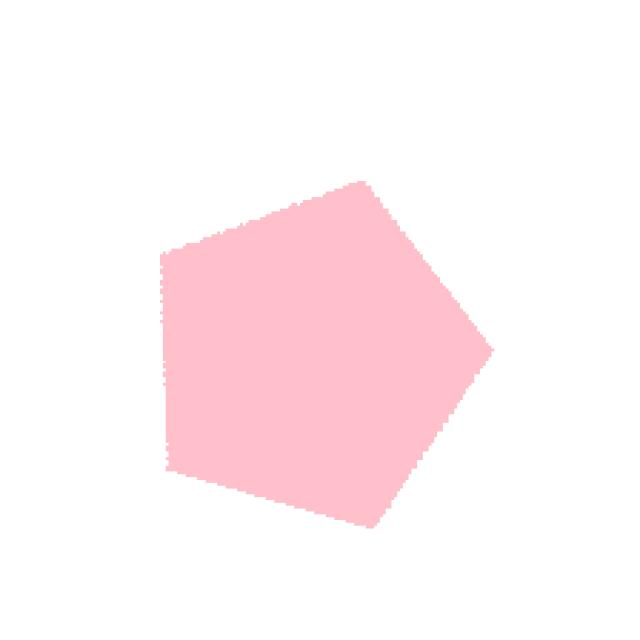Pentagon: (123, 137, 503, 542)
